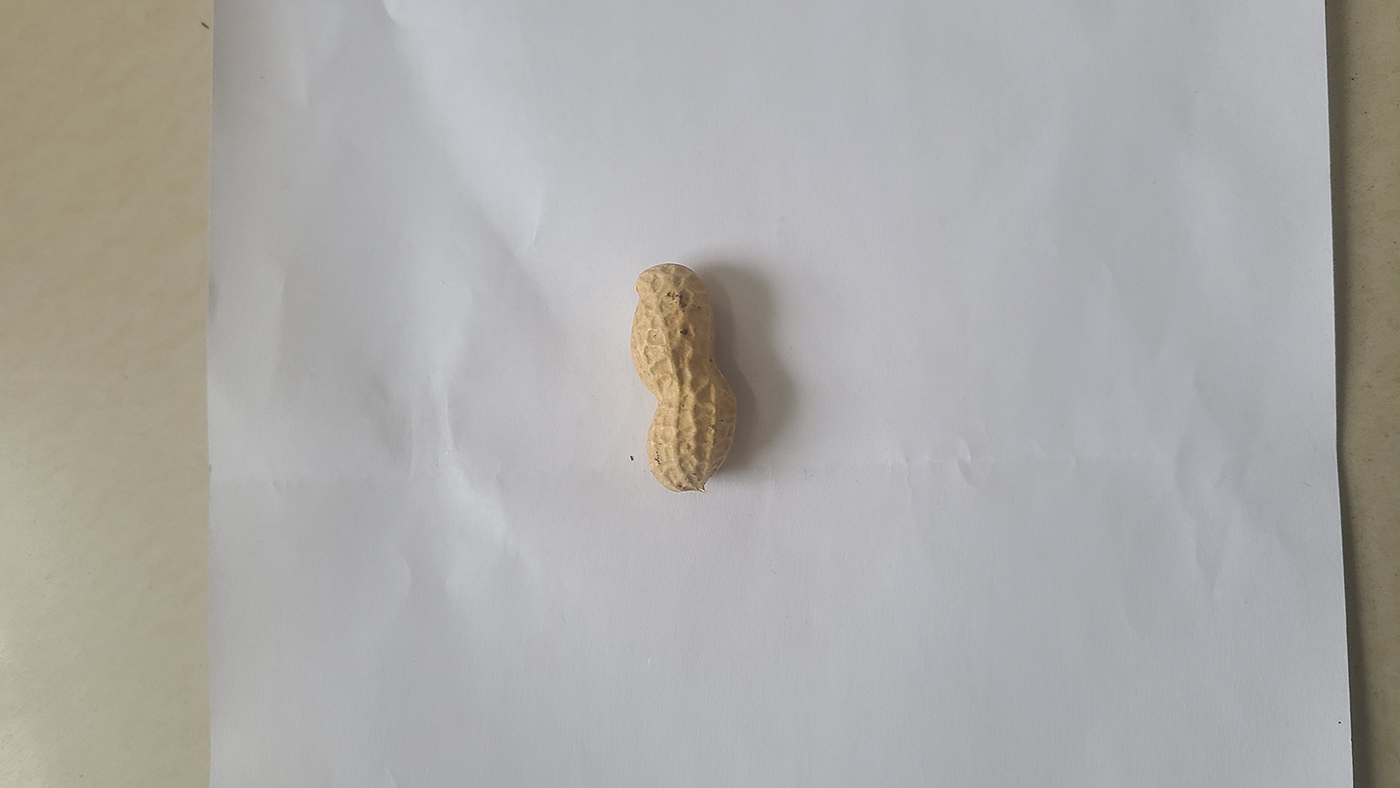h: (629, 261, 739, 494)
